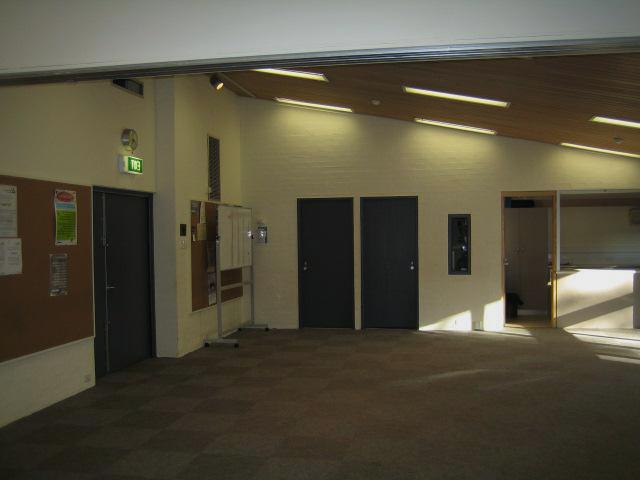Bote de Basura: (499, 290, 524, 321)
Puerta: (93, 195, 152, 372), (297, 196, 352, 330), (361, 196, 416, 327)
